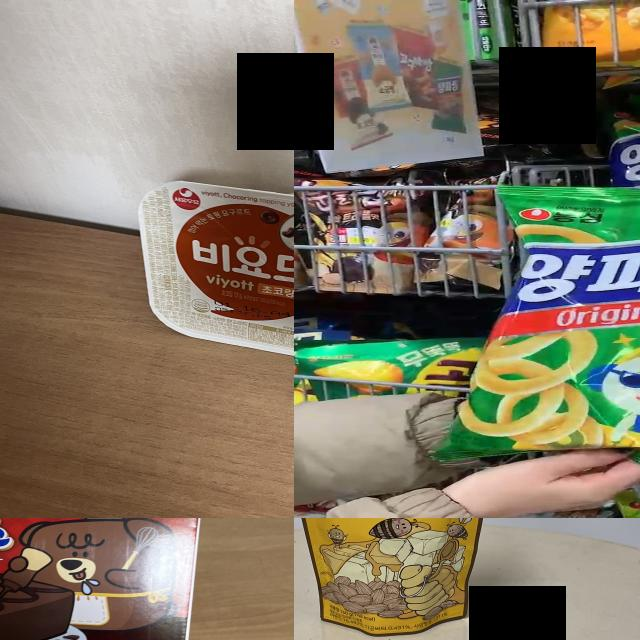bYott: (157, 194, 294, 337)
honeyAmond: (294, 518, 493, 626)
ohYes: (0, 518, 184, 640)
onionRing: (482, 199, 640, 463), (606, 112, 640, 284)
